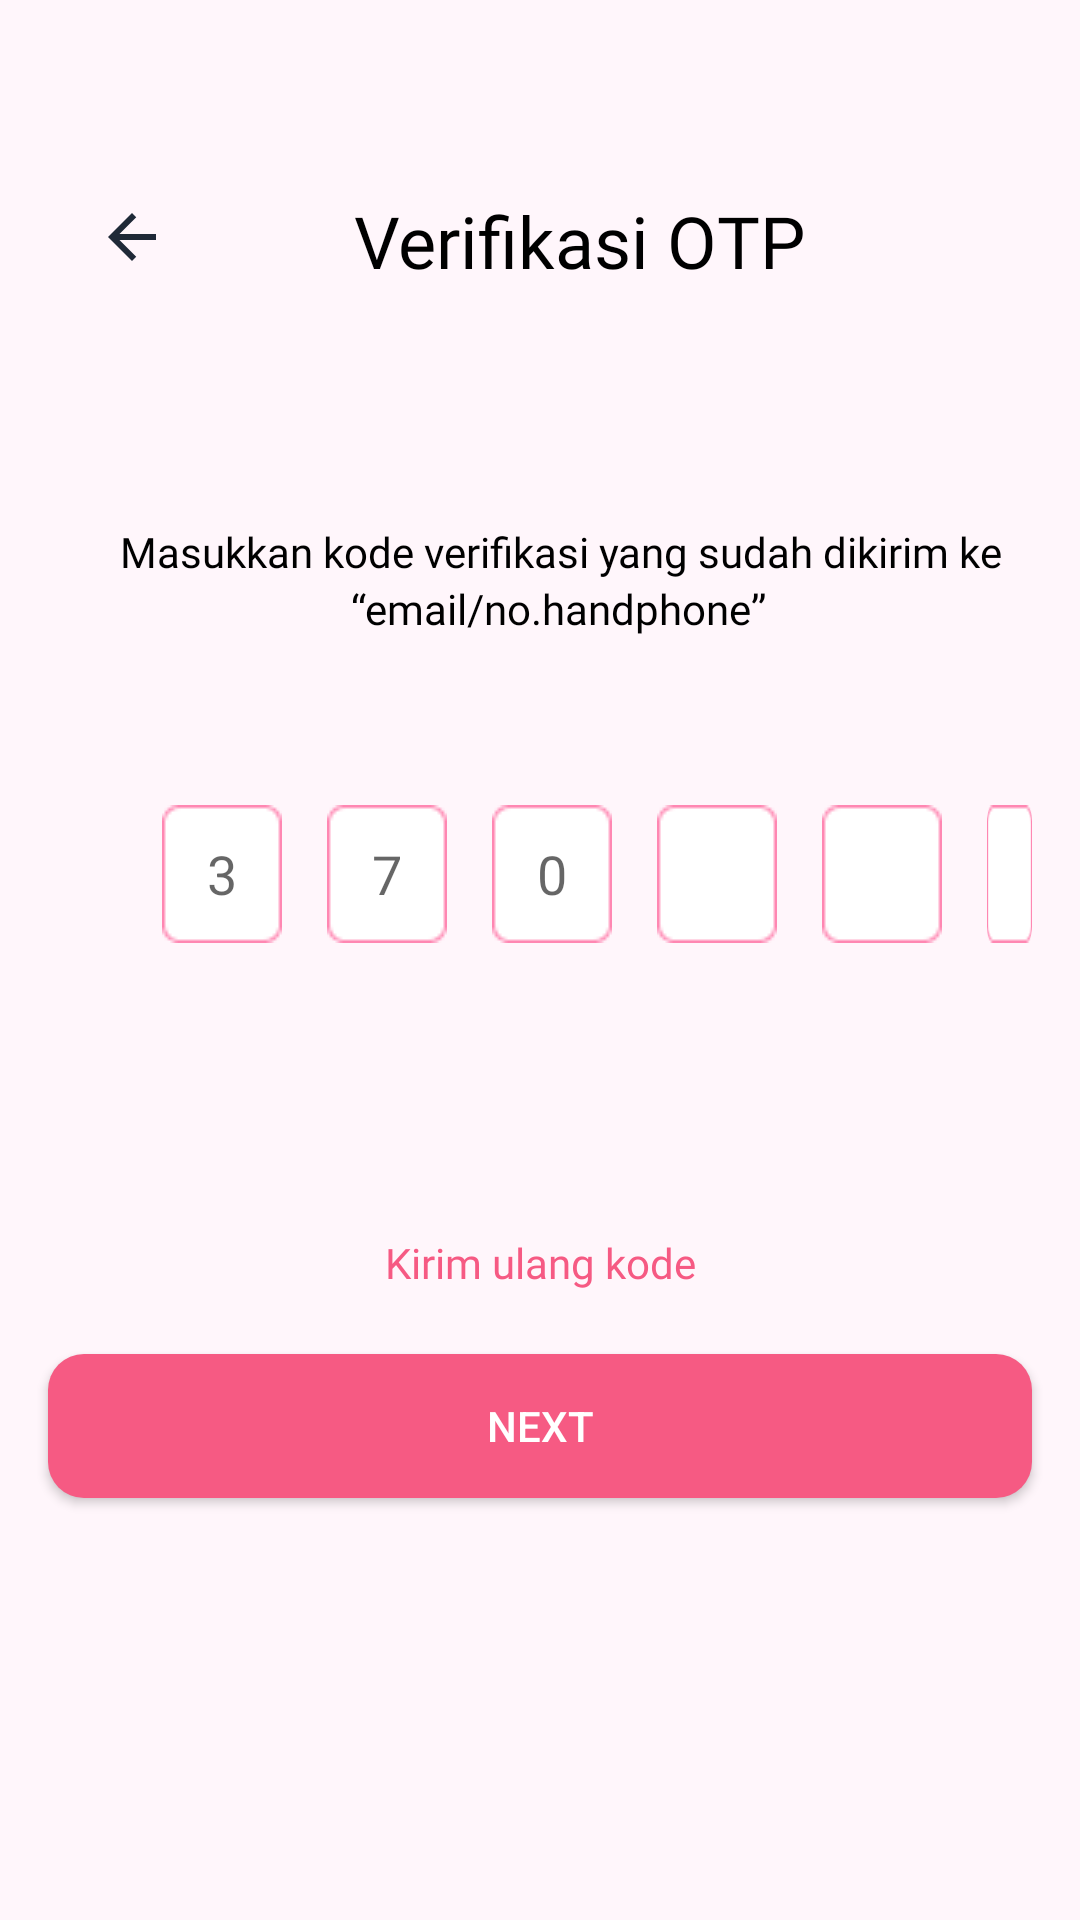

Where to tap for icons on this 1080w x 1920h app screen, as point (x, y):
back: point (132, 237)
